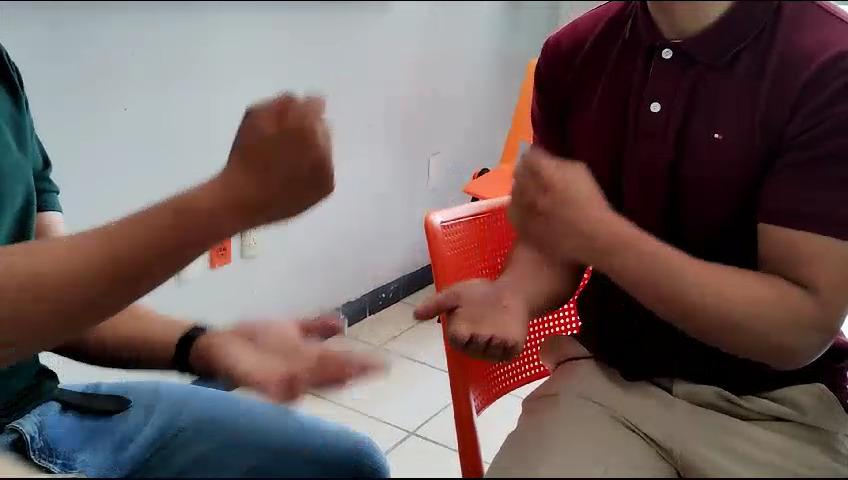Stone: (197, 77, 371, 275)
